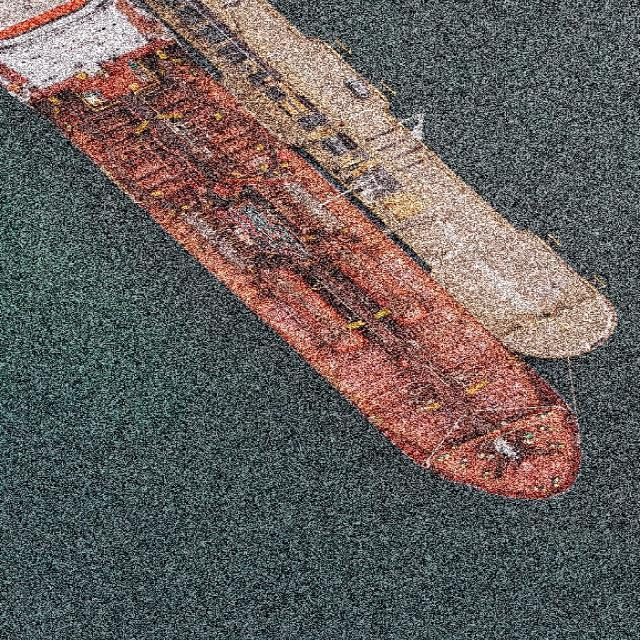ship2: (1, 0, 585, 501), (141, 0, 617, 362)
